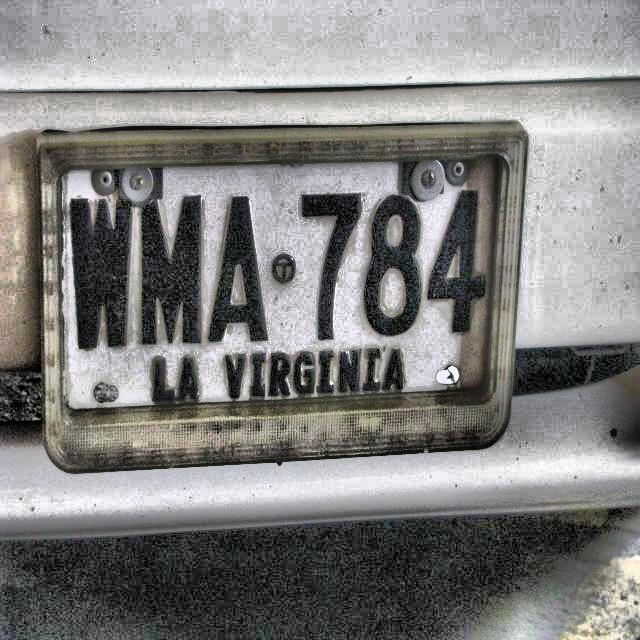plate: (62, 163, 497, 409)
